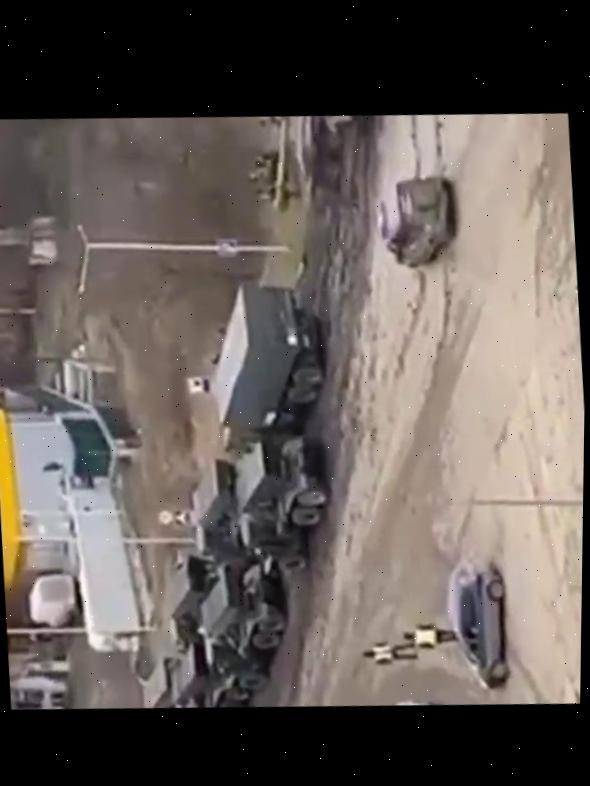car: (442, 551, 512, 692), (373, 169, 458, 271), (25, 567, 90, 640), (376, 687, 451, 709)
person: (401, 617, 458, 652), (361, 636, 418, 668), (251, 182, 297, 212), (248, 143, 281, 169), (243, 163, 280, 185), (258, 113, 288, 128)
rszo: (230, 428, 335, 579), (196, 557, 292, 693), (185, 453, 253, 568), (149, 550, 221, 650), (165, 636, 259, 712), (129, 646, 189, 711)
tank: (266, 108, 371, 217)
truck: (212, 279, 331, 457)
